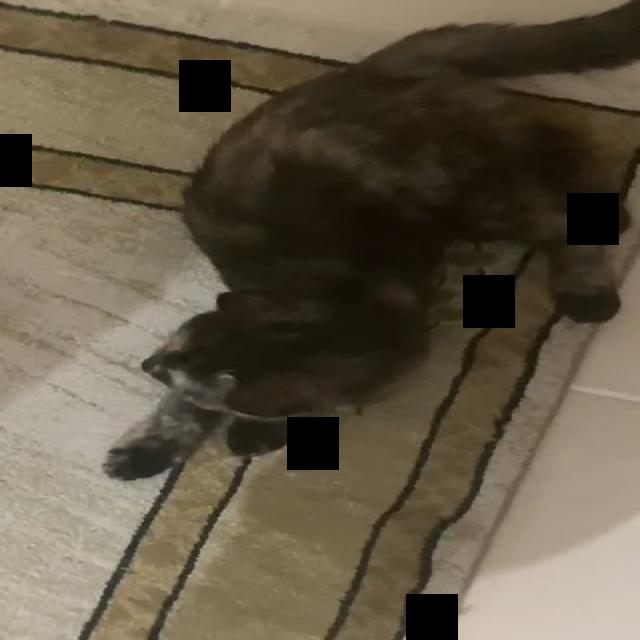authorized: (100, 0, 639, 481)
